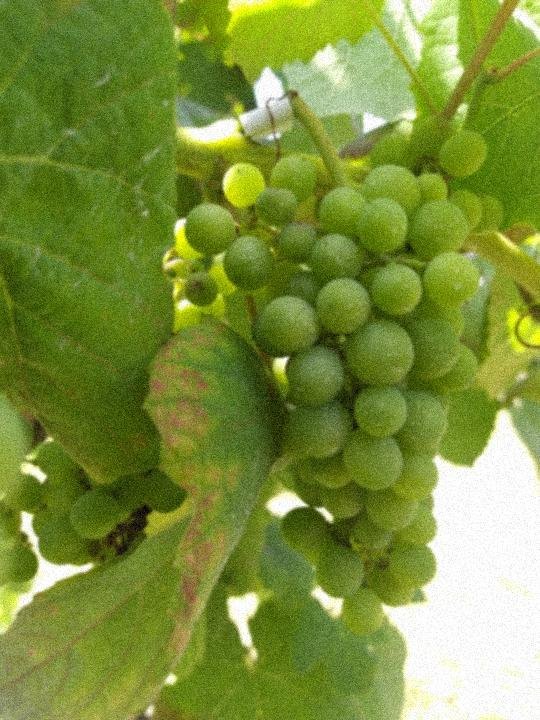grape: (164, 115, 505, 638)
